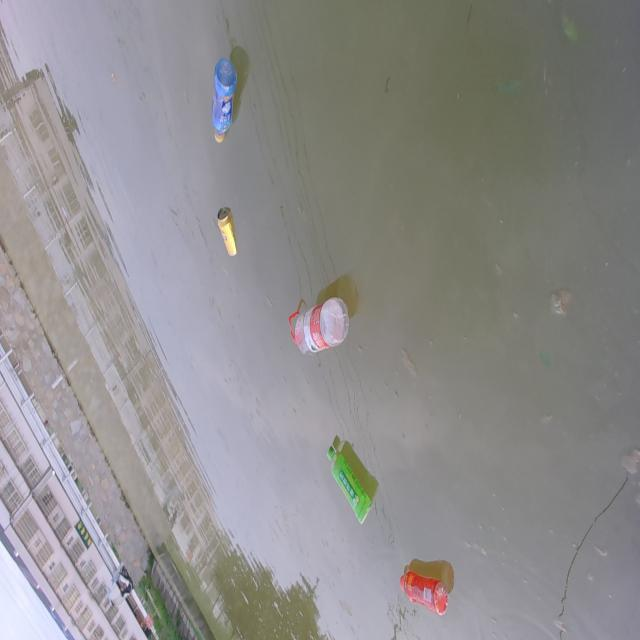bottle: (385, 542, 468, 628), (279, 274, 355, 362), (319, 441, 381, 528), (203, 53, 246, 147)
